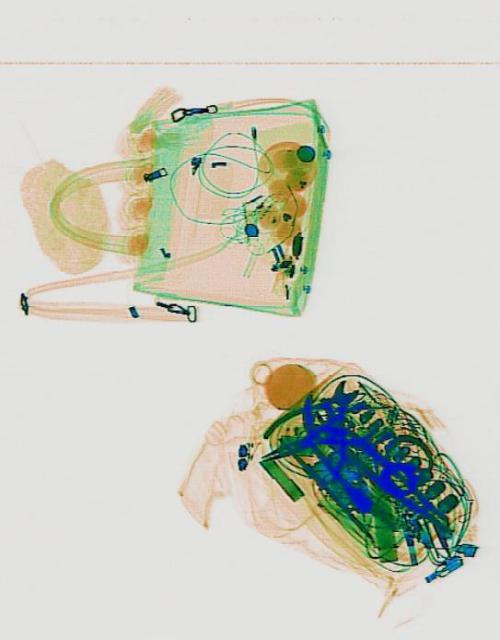Pliers: (258, 352, 379, 494), (254, 396, 379, 476)
